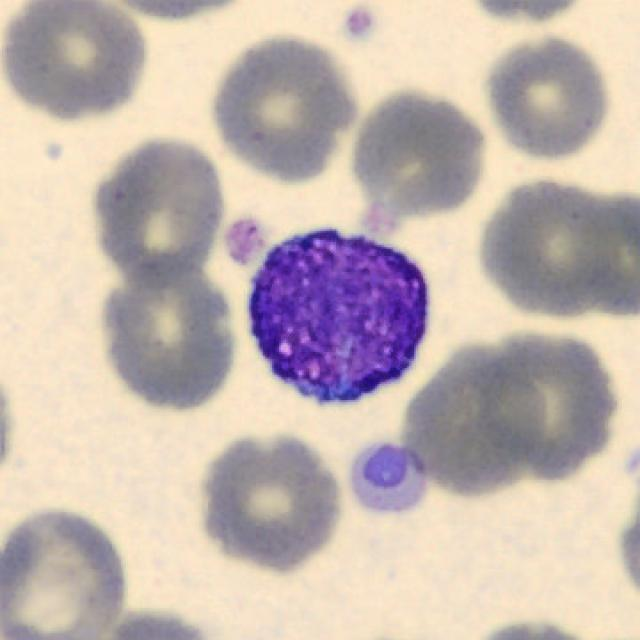Linfocito: (249, 229, 430, 405)
